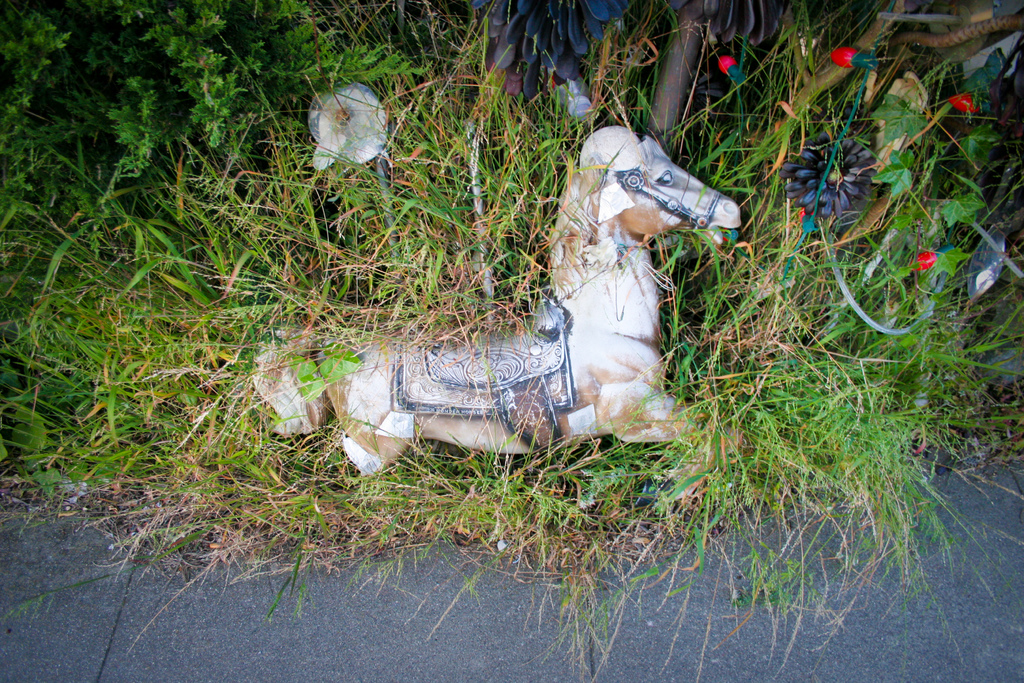Animal: (258, 128, 742, 513)
